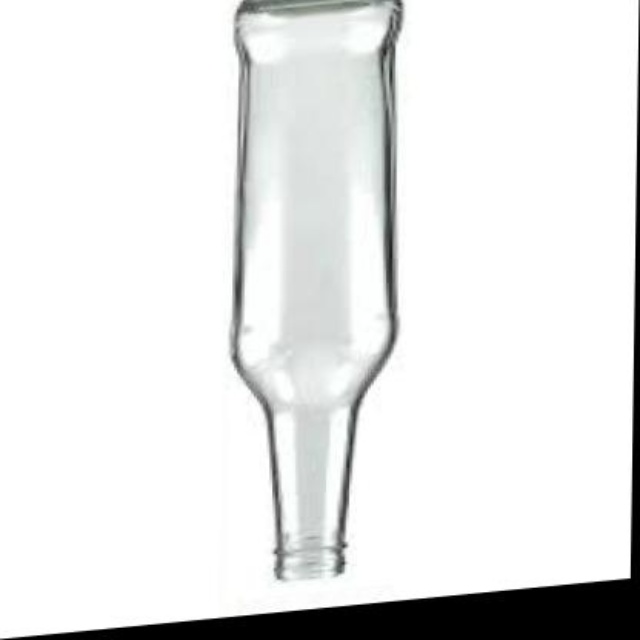trash: (232, 0, 402, 578)
